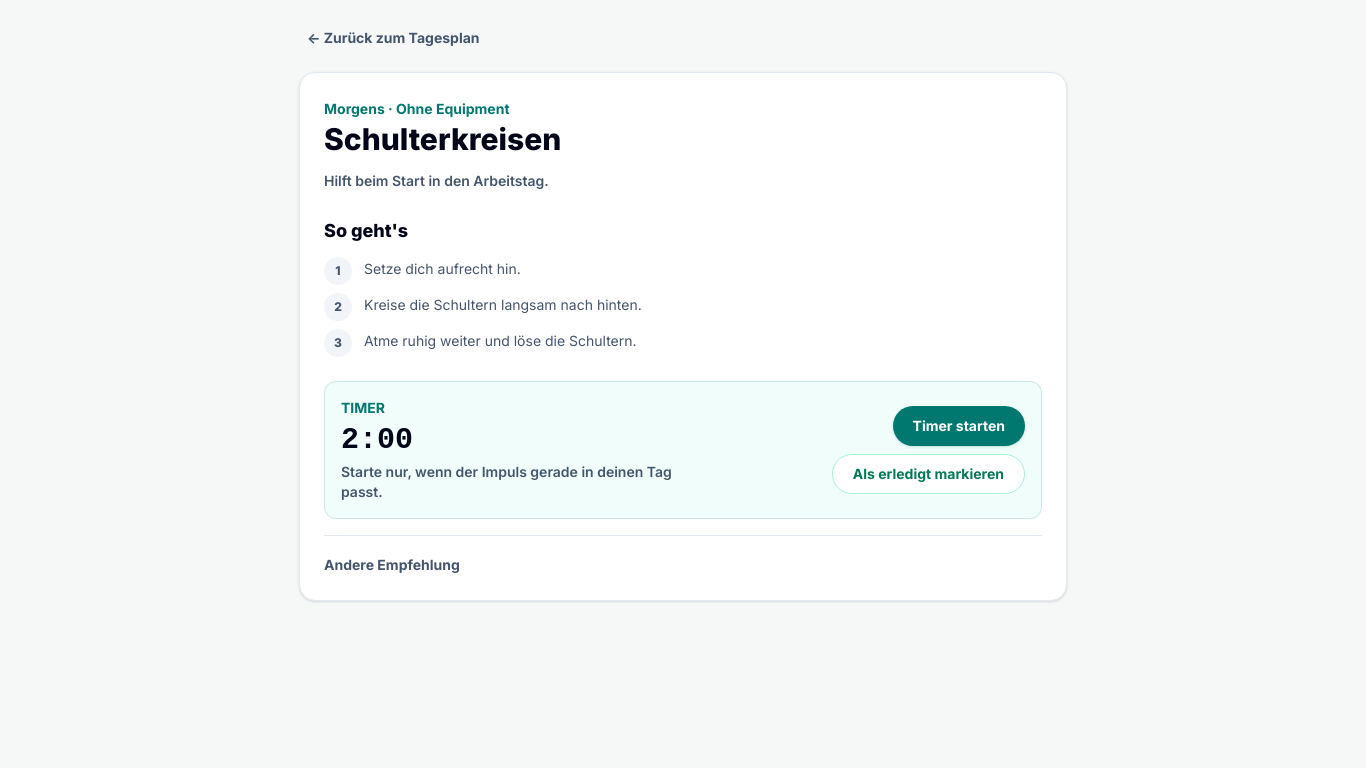
Test: ExerciseDetailView › starts the timer from the primary action
Click the button "Timer starten" at (959, 426), box left=892, top=406, right=1025, bottom=446
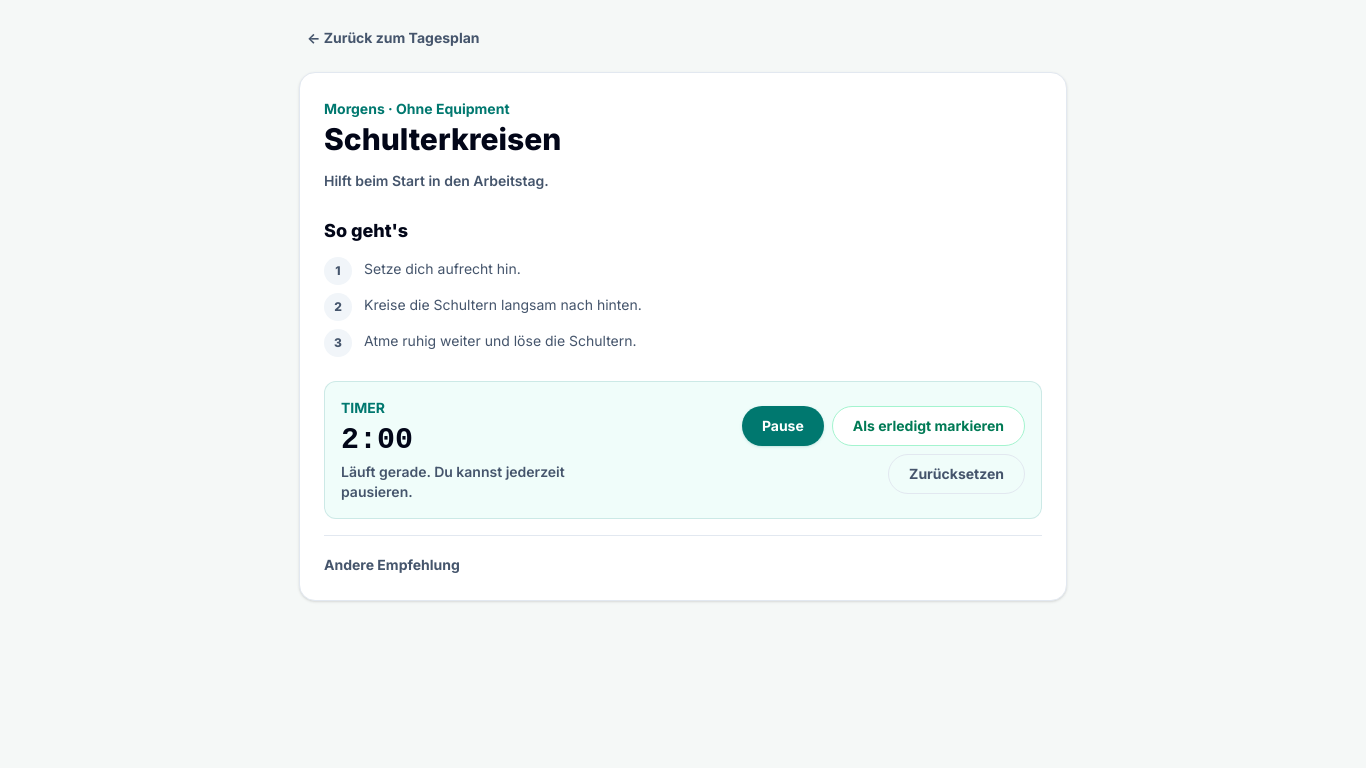
Now the text "Pause" is shown, box left=742, top=406, right=824, bottom=446
Now the text "Timer starten" is gone
